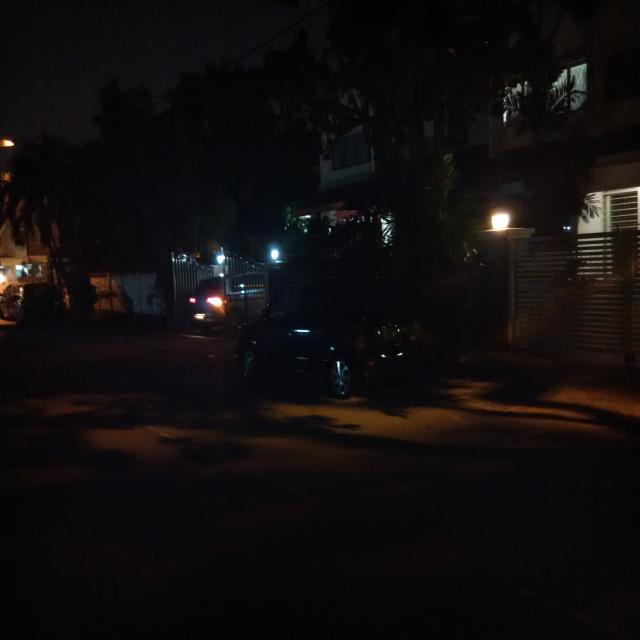car: (231, 286, 428, 422), (174, 258, 239, 342), (0, 263, 57, 333)
